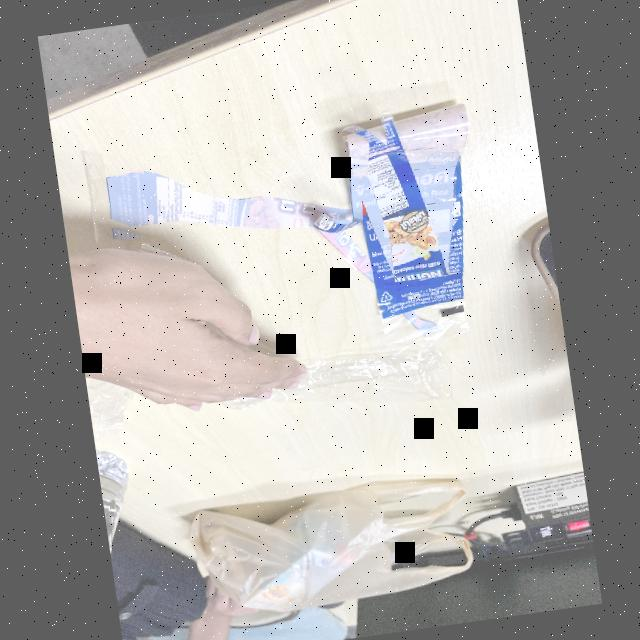scrap_plastic: (301, 82, 502, 353), (210, 326, 473, 450)
